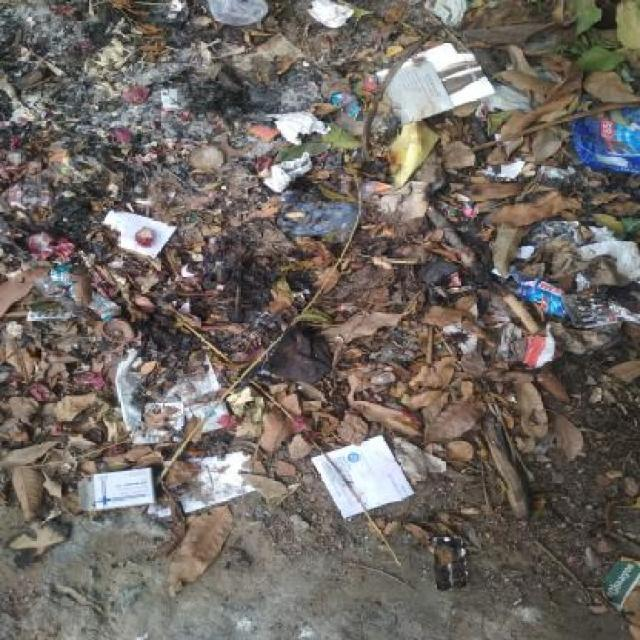garbage: (5, 2, 636, 348), (6, 357, 639, 538), (417, 533, 484, 590)
